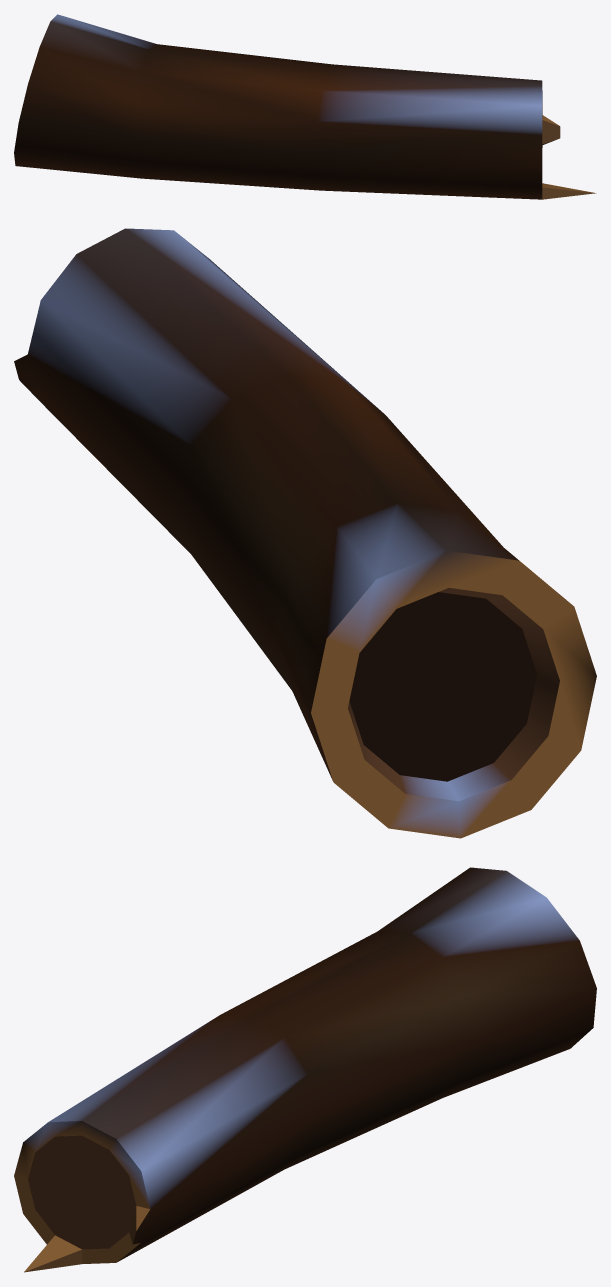
The model's file is Log_01.fbx.
3 renders of one model, top to bottom at view 1: azimuth 30°, elevation 25°; view 2: azimuth 150°, elevation 25°; view 3: azimuth 270°, elevation 25°, orthographic. The views are drawn at different scales.
Visible parts, largest first — view 1: Log_01; view 2: Log_01; view 3: Log_01.
Part boxes in pixels (<box>): Log_01: <box>14,14,596,199</box>; Log_01: <box>14,228,596,838</box>; Log_01: <box>14,867,596,1272</box>.
Size of the model in its own units: 1737 by 549 by 1561.
